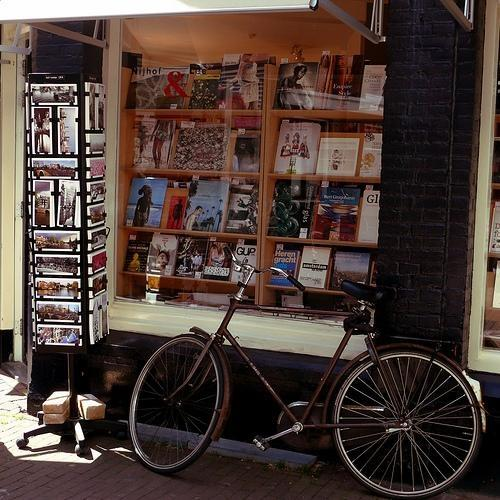bicycle: (127, 242, 492, 499)
